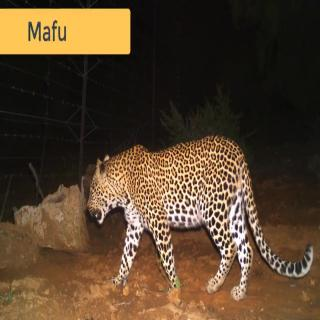Leopard: (85, 131, 314, 302)
